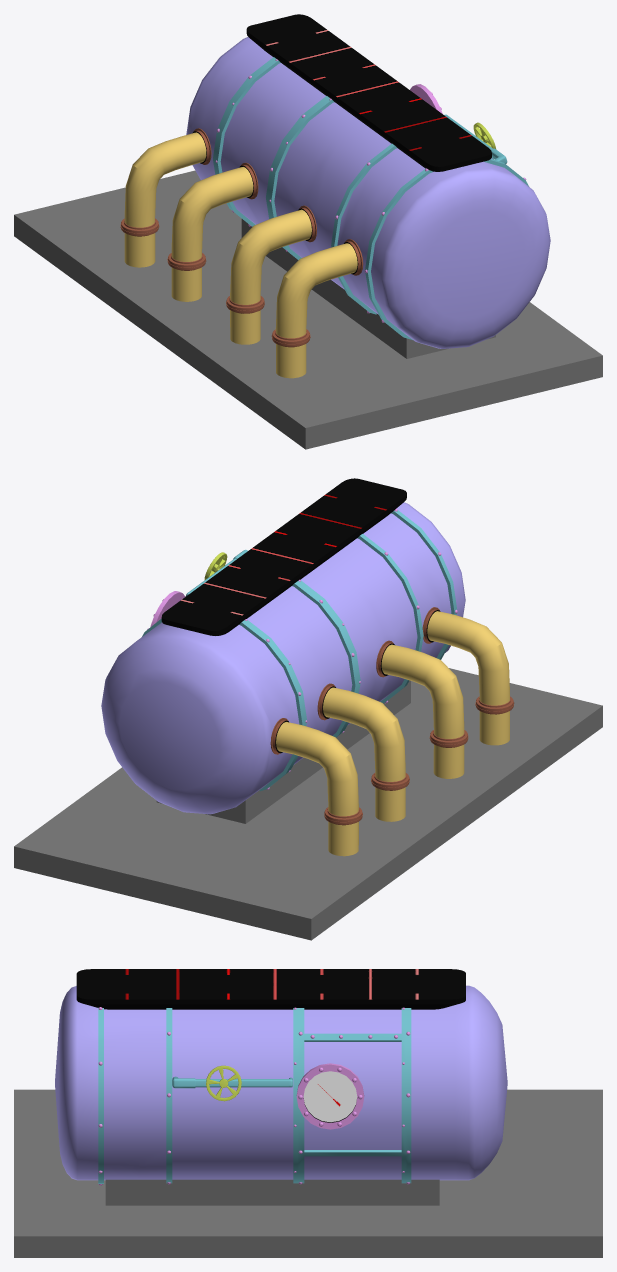
File: Tank_R3.2.2.2.fbx
3 renders of one model, top to bottom at view 1: azimuth 30°, elevation 25°; view 2: azimuth 150°, elevation 25°; view 3: azimuth 270°, elevation 25°, orthographic.
Visible parts, largest first — view 1: pCylinder21, pCube183, pCube271, pCube195, pCube206, pCube202, pCube204, pCube200; view 2: pCube183, pCylinder21, pCube271, pCube204, pCube206, pCube202, pCube195, pCube200; view 3: pCylinder21, pCube183, pCube271, pCube200, pCube182, pCube159, pCylinder22.
Part boxes in pixels (x1,y1,x2,y2): pCylinder21: (186,37,550,348); pCube183: (14,170,602,449); pCube271: (246,14,491,171); pCube195: (124,132,206,267); pCube206: (275,243,357,378); pCube202: (171,167,253,301); pCube204: (230,209,311,344); pCube200: (241,219,495,358); pCube183: (14,668,602,940); pCylinder21: (101,502,465,814); pCube271: (161,478,406,635); pCube204: (381,644,464,778); pCube206: (427,611,509,745); pCube202: (323,687,405,821); pCube195: (276,722,358,856); pCube200: (156,680,410,823); pCylinder21: (55,985,507,1183); pCube183: (14,1089,602,1257); pCube271: (76,969,465,1009); pCube200: (105,1179,439,1205); pCube182: (296,1063,364,1129); pCube159: (172,1076,292,1088); pCylinder22: (206,1065,241,1101).
Size of the model in its own units: 86.86 by 61.12 by 147.
Materials: 3 (2 with a texture image).
